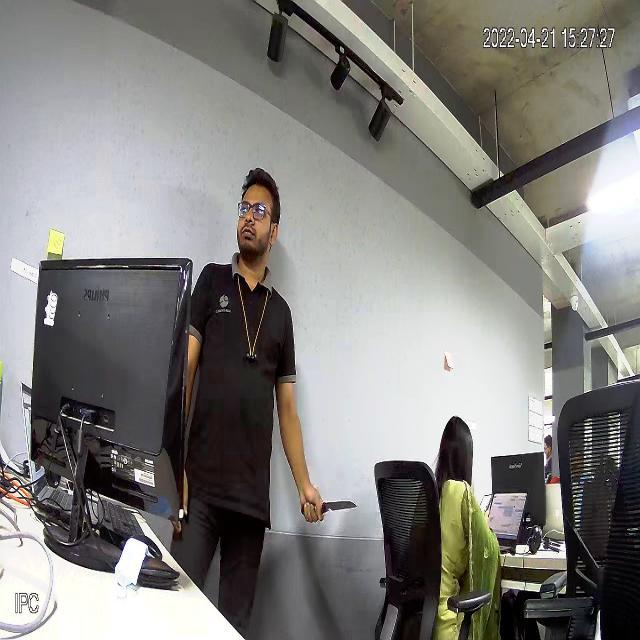Knife: (302, 478, 369, 522)
